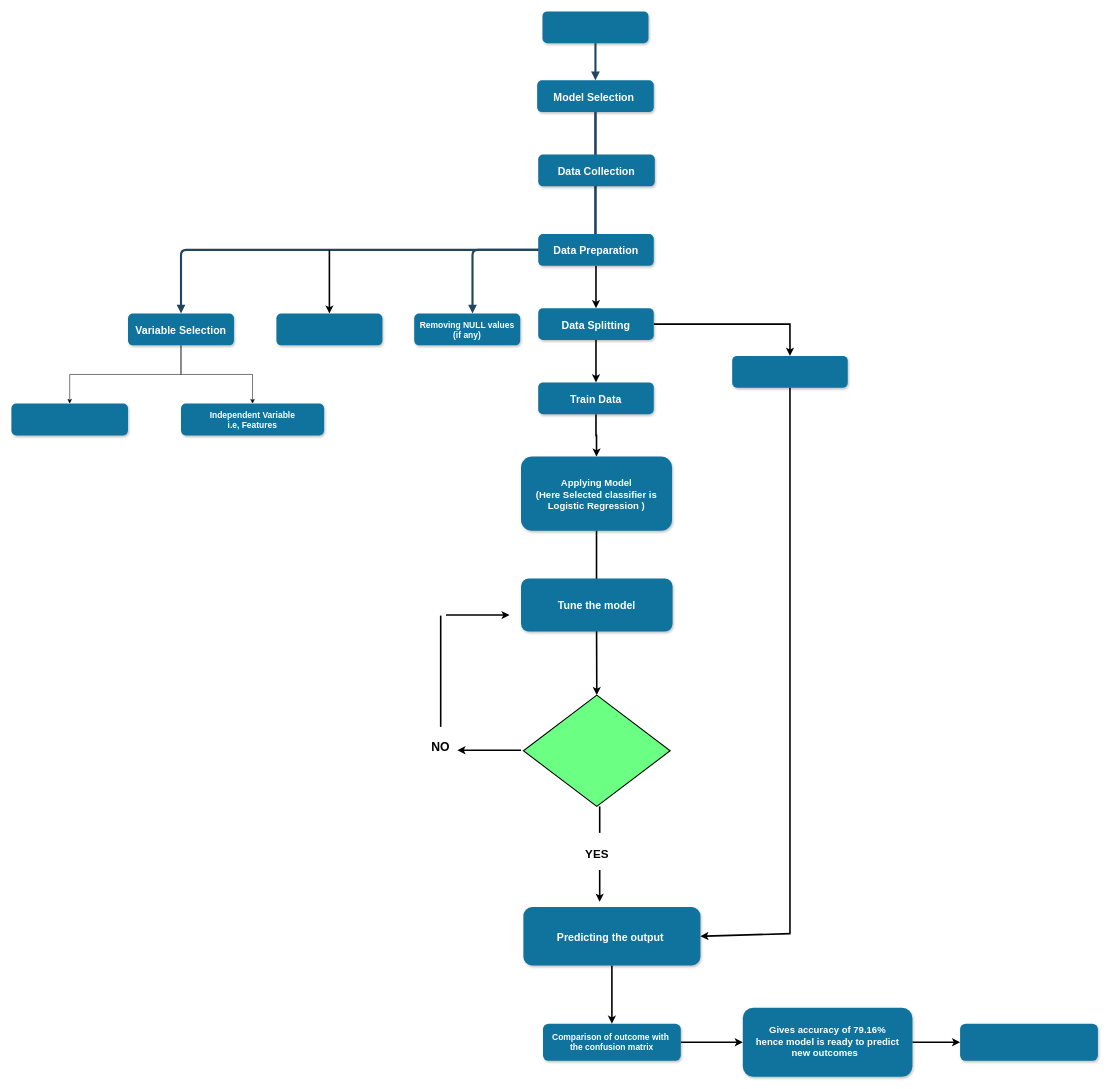
Some shapes in this 1110 by 1089 pixel diagram are drawn without their labels. The shapes that lost their labels are listed below. From the top down, each one's centre as x and y in pixels, then its label:
At (595,28): "Objective".
At (329,330): "Checking for Missing values (if any)".
At (790,372): "Test Data".
At (70,420): "Dependent variable i.e Label".
At (596,750): "Is Model tuned?".
At (1029,1042): "END".
